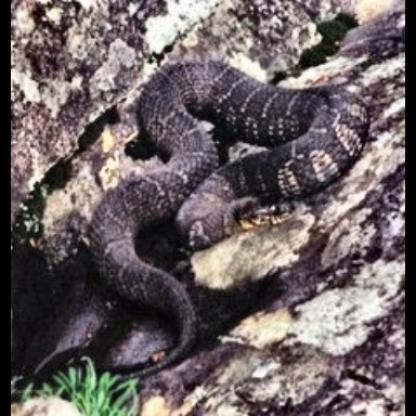Snake: (79, 59, 365, 315)
